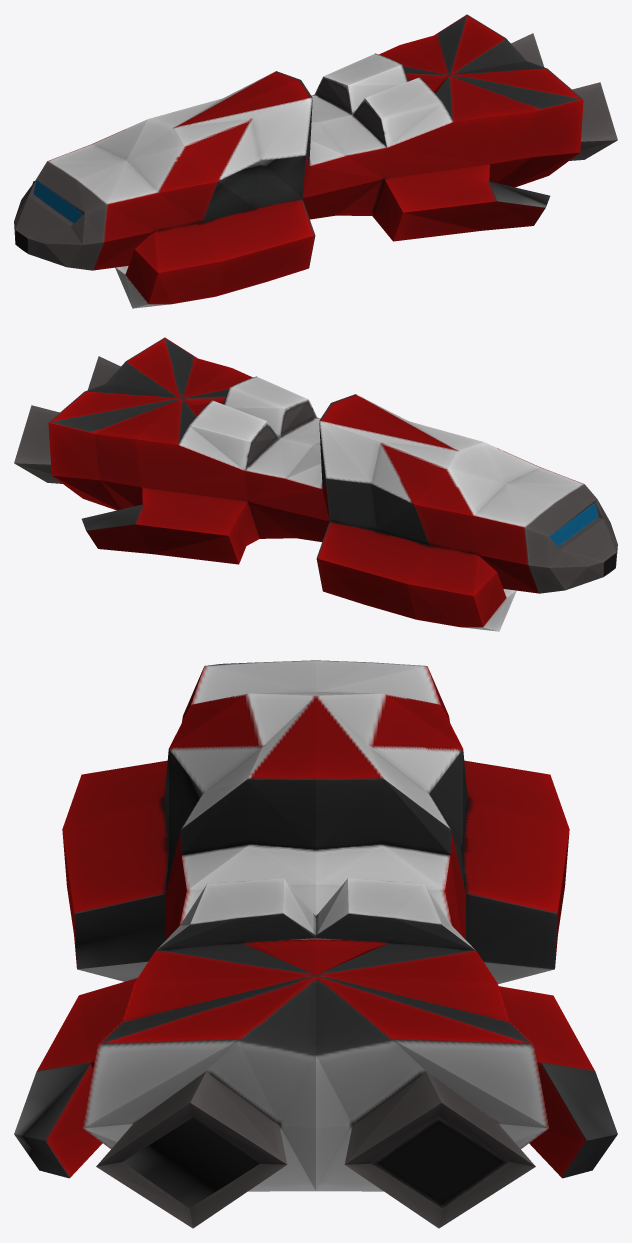
Rendered from Cargo1.FBX.
3 renders of one model, top to bottom at view 1: azimuth 30°, elevation 25°; view 2: azimuth 150°, elevation 25°; view 3: azimuth 270°, elevation 25°, orthographic. The views are drawn at different scales.
Visible parts, largest first — view 1: Cargo1; view 2: Cargo1; view 3: Cargo1.
Boxes of the visible parts, box(x1,y1,x2,y2) form: Cargo1: box(14, 14, 617, 308); Cargo1: box(14, 337, 617, 631); Cargo1: box(14, 660, 617, 1228).
Size of the model in its own units: 11.58 by 2.93 by 5.93.
